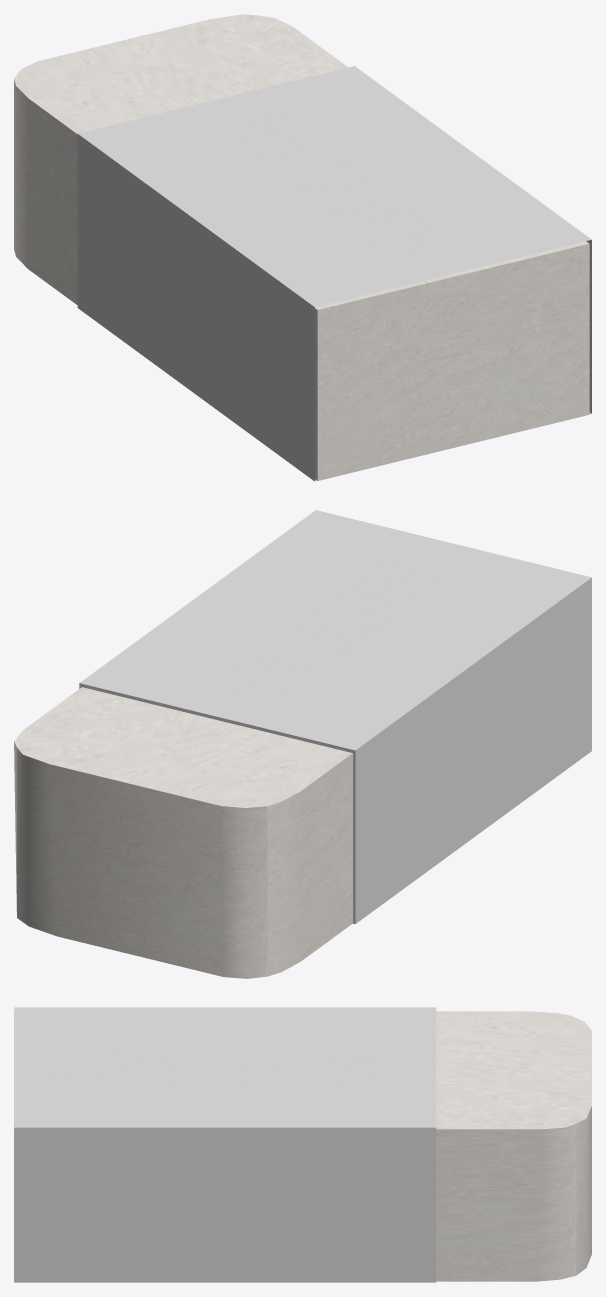
File: eraser.FBX
The picture shows the model from 3 angles, top to bottom: view 1: azimuth 30°, elevation 25°; view 2: azimuth 150°, elevation 25°; view 3: azimuth 270°, elevation 25°; orthographic projection. The views are drawn at different scales.
Parts seen in each view (by area): view 1: Box002, Box001, TextPlus001; view 2: Box002, Box001, TextPlus001; view 3: Box002, Box001, TextPlus001.
Part boxes in pixels (x1,y1,x2,y2): Box002: (77,66,591,481); Box001: (14,14,589,480); TextPlus001: (231,114,465,253); Box002: (79,510,591,923); Box001: (14,687,352,978); TextPlus001: (219,547,450,693); Box002: (14,1007,436,1282); Box001: (14,1011,591,1281); TextPlus001: (49,1051,382,1082).
Size of the model in its own units: 31.95 by 19.5 by 64.89.
